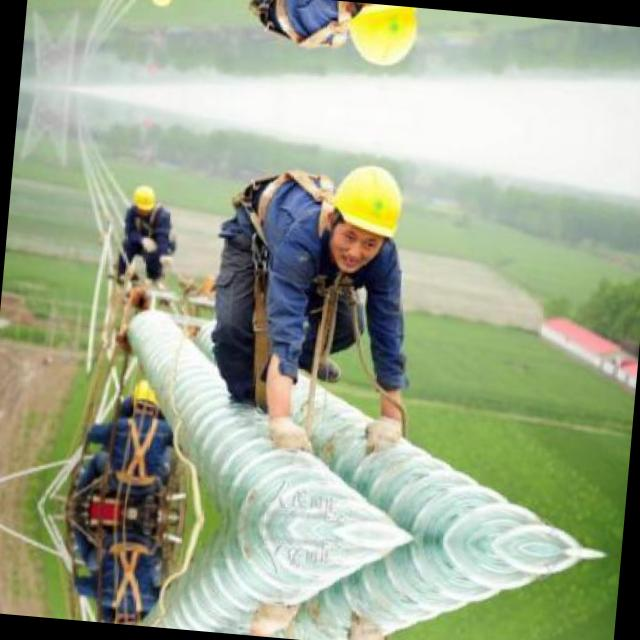helmet: (314, 151, 413, 280), (330, 0, 428, 79), (122, 378, 168, 423), (131, 182, 160, 218), (104, 600, 148, 622), (148, 0, 178, 11)
